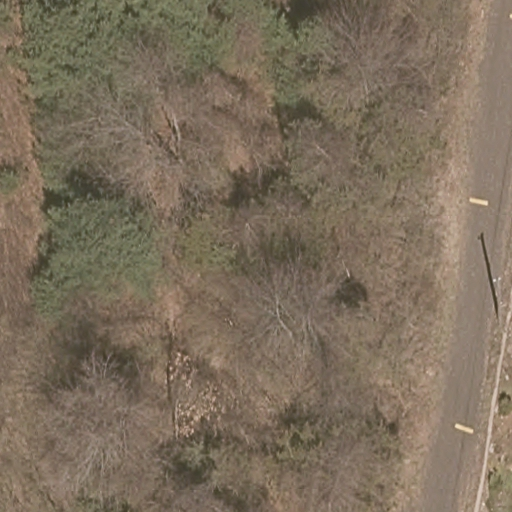DT: (485, 271, 512, 338)
